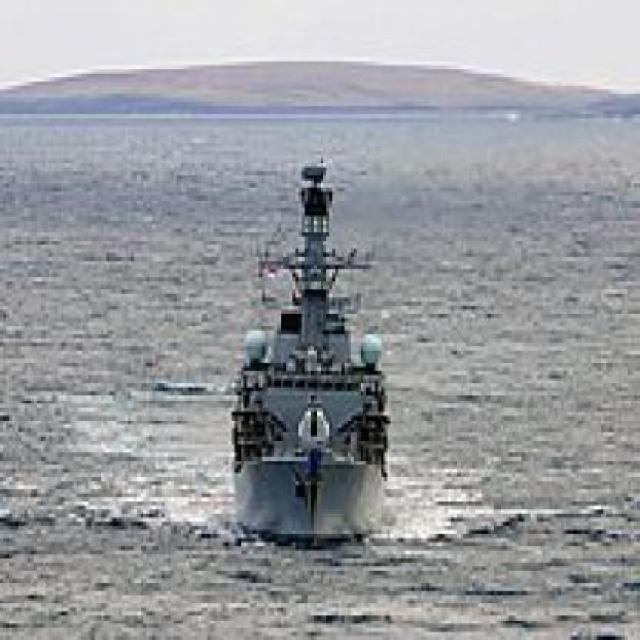warship2: (233, 152, 407, 547)
